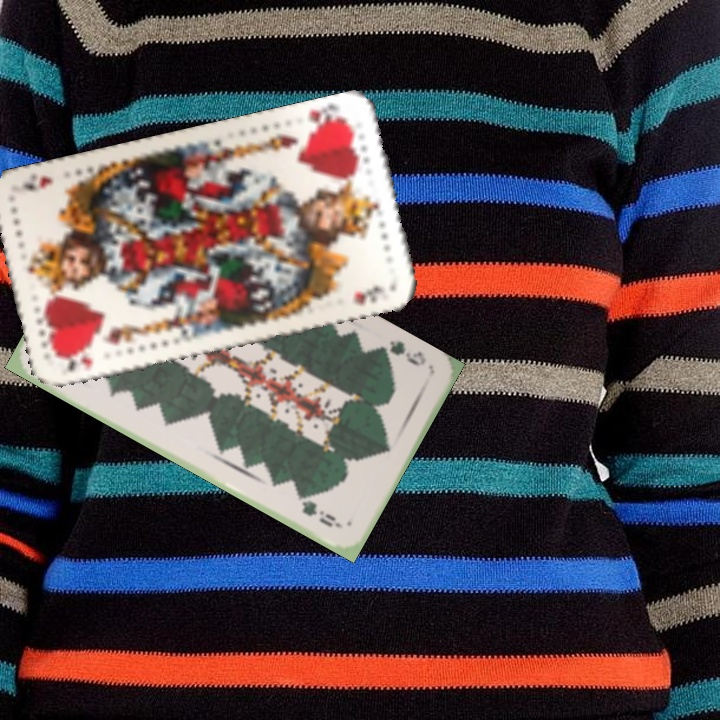G9: (376, 336, 429, 369)
HK: (303, 101, 351, 135), (55, 351, 96, 378)
